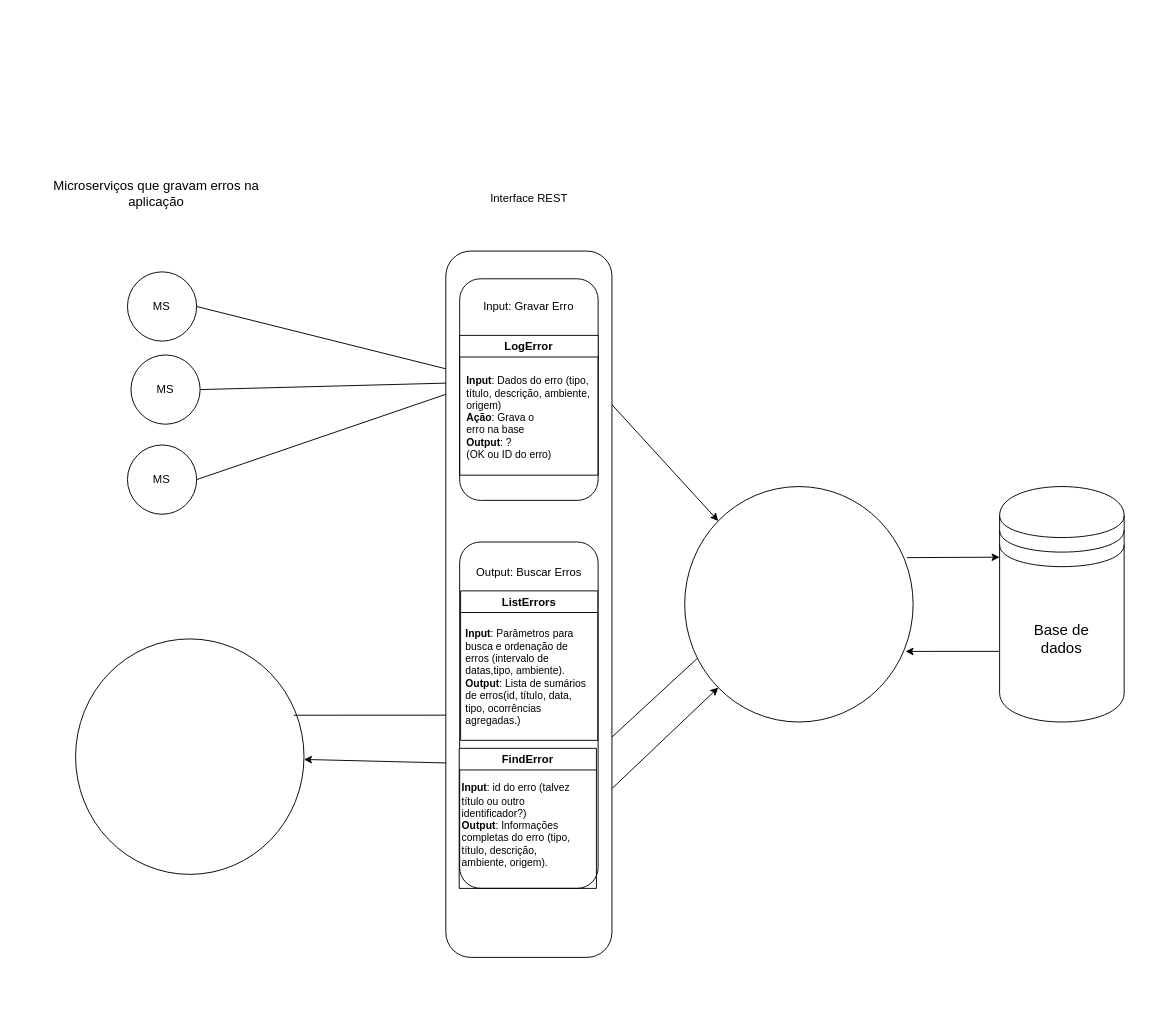
The diagram is 1166 pixels wide and 1012 high, and some of its shapes have lost their labels. Each missing label, with the centre of its shape:
Backend: (798,604)
Frontend: (189,756)
